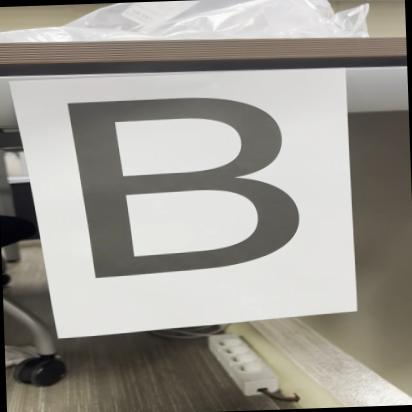seat: (56, 77, 312, 295)
